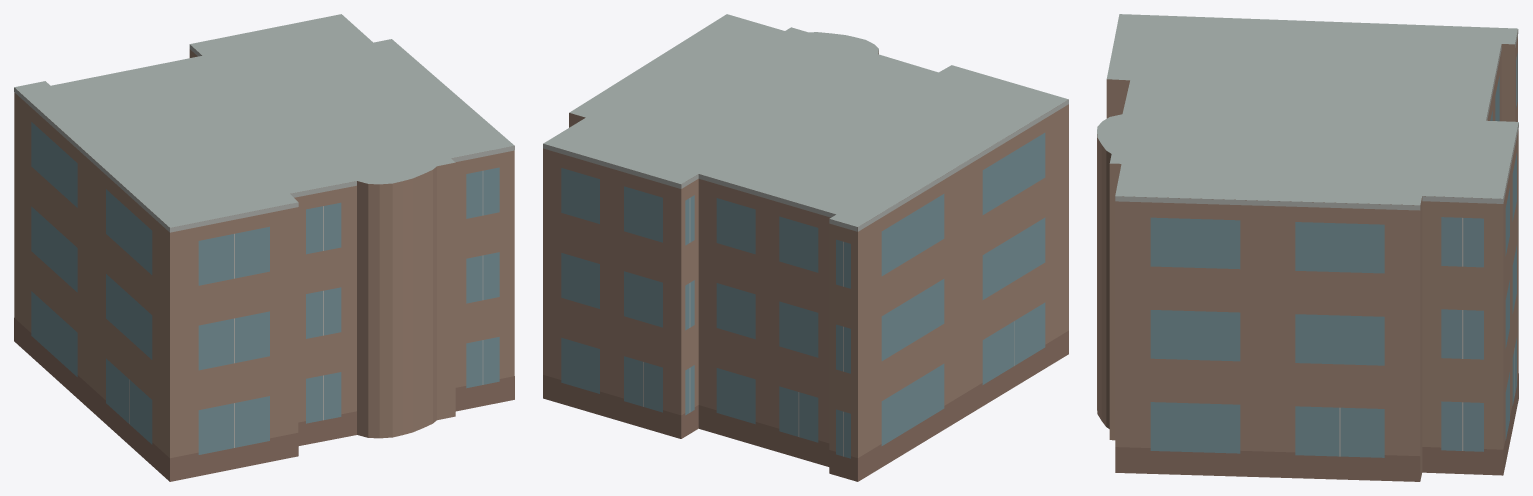
Rendered from survey-upis-32996951.glb.
3 views of the same model, side by side, from view 1: azimuth 30°, elevation 25°; view 2: azimuth 150°, elevation 25°; view 3: azimuth 270°, elevation 25° (orthographic). The views are drawn at different scales.
Visible parts, largest first — view 1: survey-upis-32996951.tmp; view 2: survey-upis-32996951.tmp; view 3: survey-upis-32996951.tmp.
Boxes of the visible parts, x1,y1,x2,y2 form: survey-upis-32996951.tmp: (14,14,514,481); survey-upis-32996951.tmp: (543,14,1068,481); survey-upis-32996951.tmp: (1097,14,1518,481).
Bounding box in the file's own units: 19.28 × 12.99 × 17.96.
